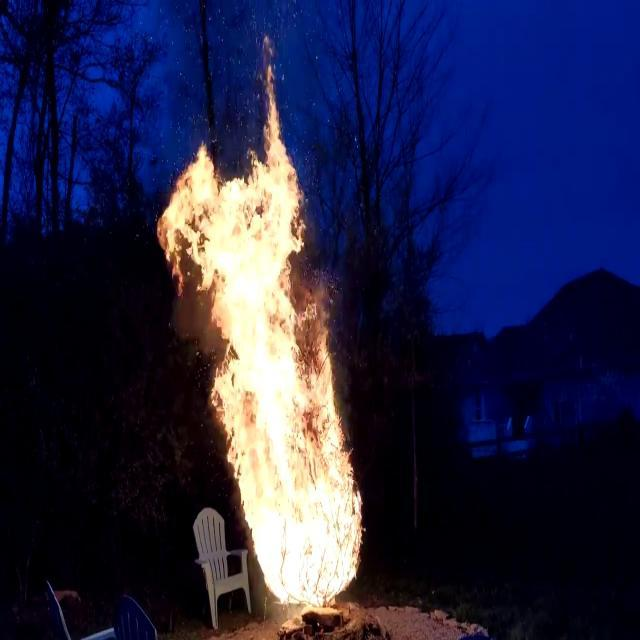Fire: (149, 35, 370, 606)
